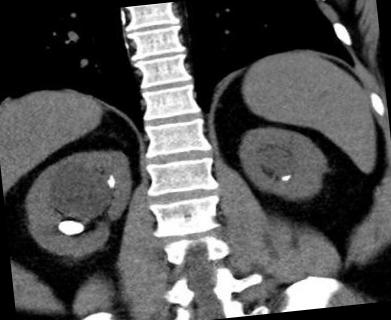Tas_Var: (49, 212, 92, 242), (102, 173, 118, 189), (278, 169, 294, 185)
